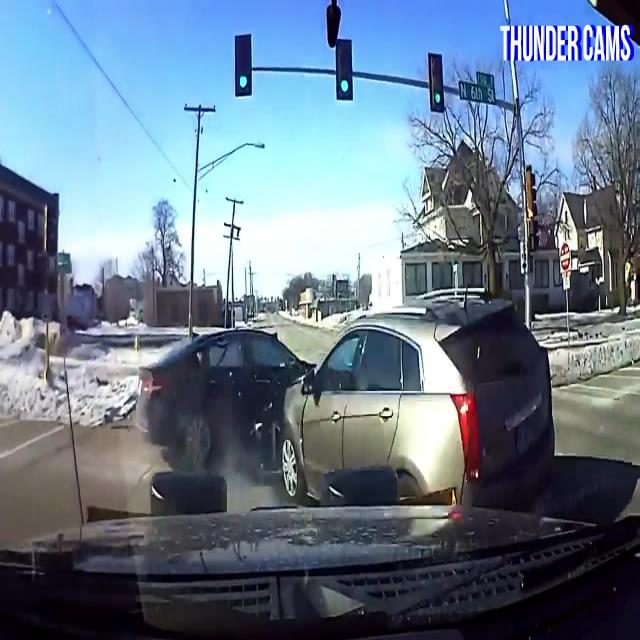accident: (143, 286, 534, 530)
